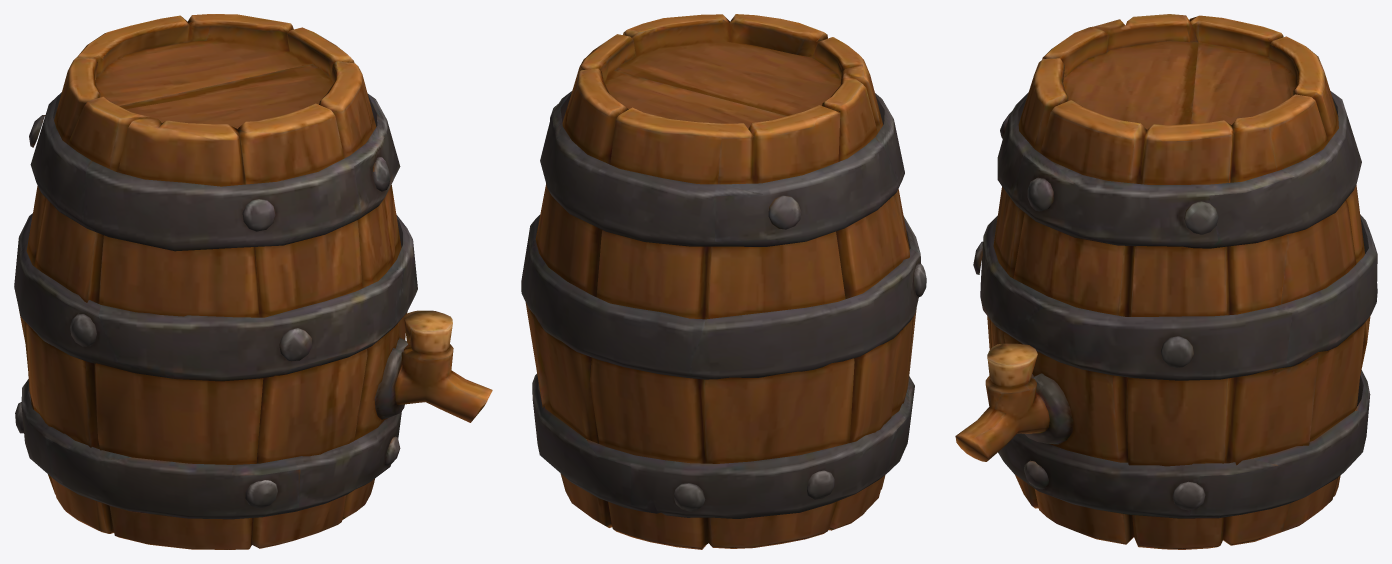
Rendered from tonneau.glb.
3 views of the same model, side by side, from view 1: azimuth 30°, elevation 25°; view 2: azimuth 150°, elevation 25°; view 3: azimuth 270°, elevation 25° (orthographic).
Visible parts, largest first — view 1: geometry_0; view 2: geometry_0; view 3: geometry_0.
Boxes of the visible parts, <box> form: geometry_0: <box>14,14,492,549</box>; geometry_0: <box>521,14,926,549</box>; geometry_0: <box>955,14,1377,549</box>.
Bounding box in the file's own units: 0.852 × 0.9531 × 0.8842.
1 material, 1 textured.
